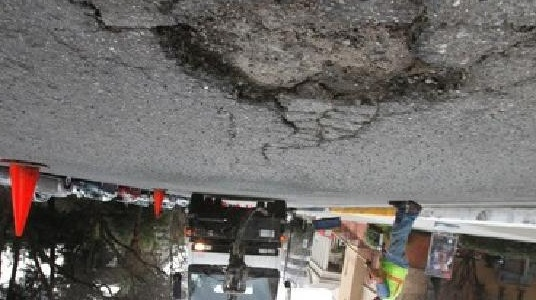pothole: (147, 0, 471, 112)
